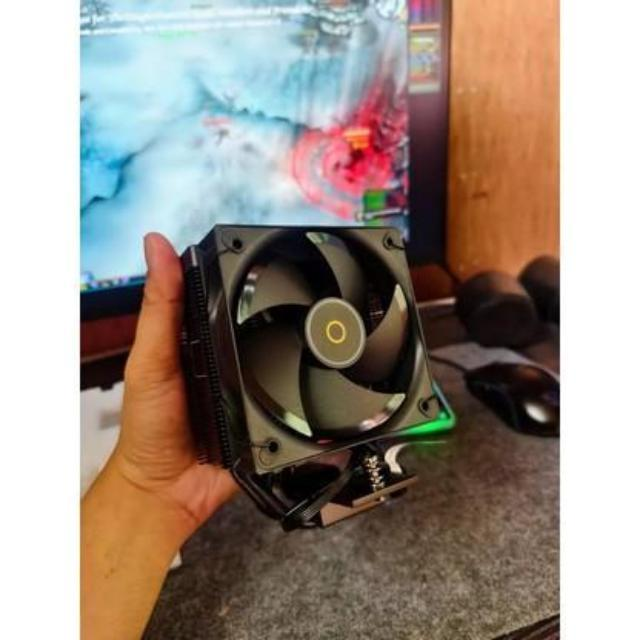CPU_Fan: (176, 218, 444, 530)
